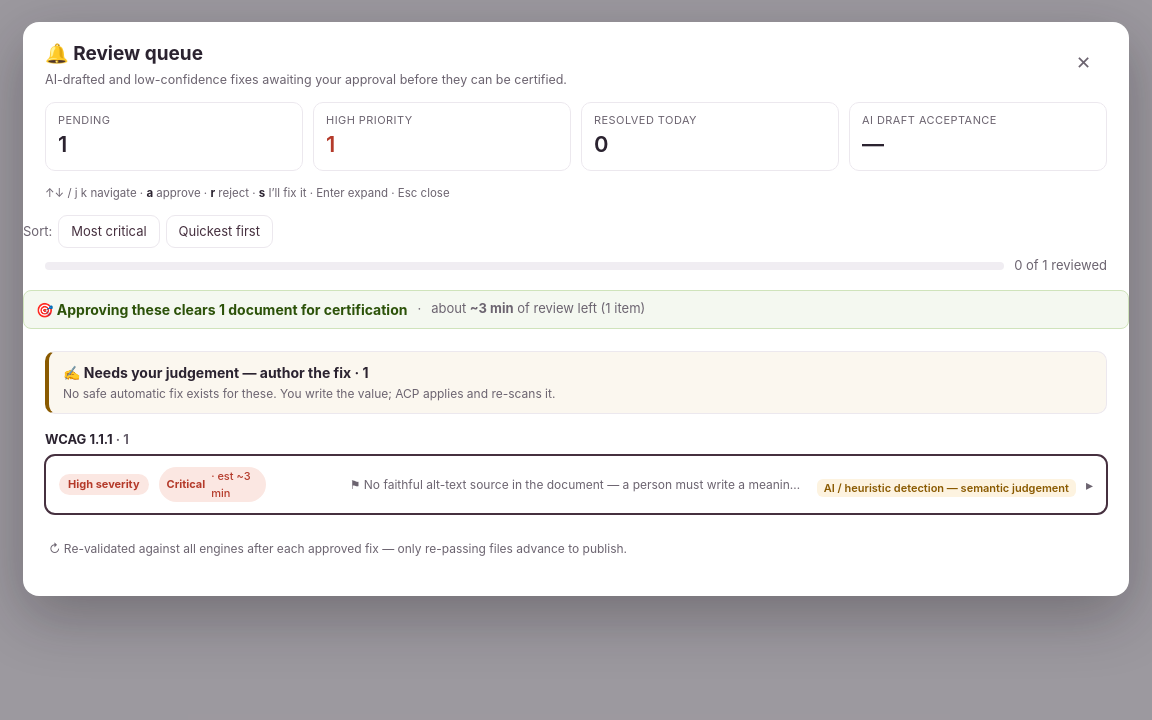
Test: ReviewCenter — approval error display › shows an error banner when a bulk approval fails
Step 1. Click the button that starts with "High" → (576, 485), box [46,456,1106,513]
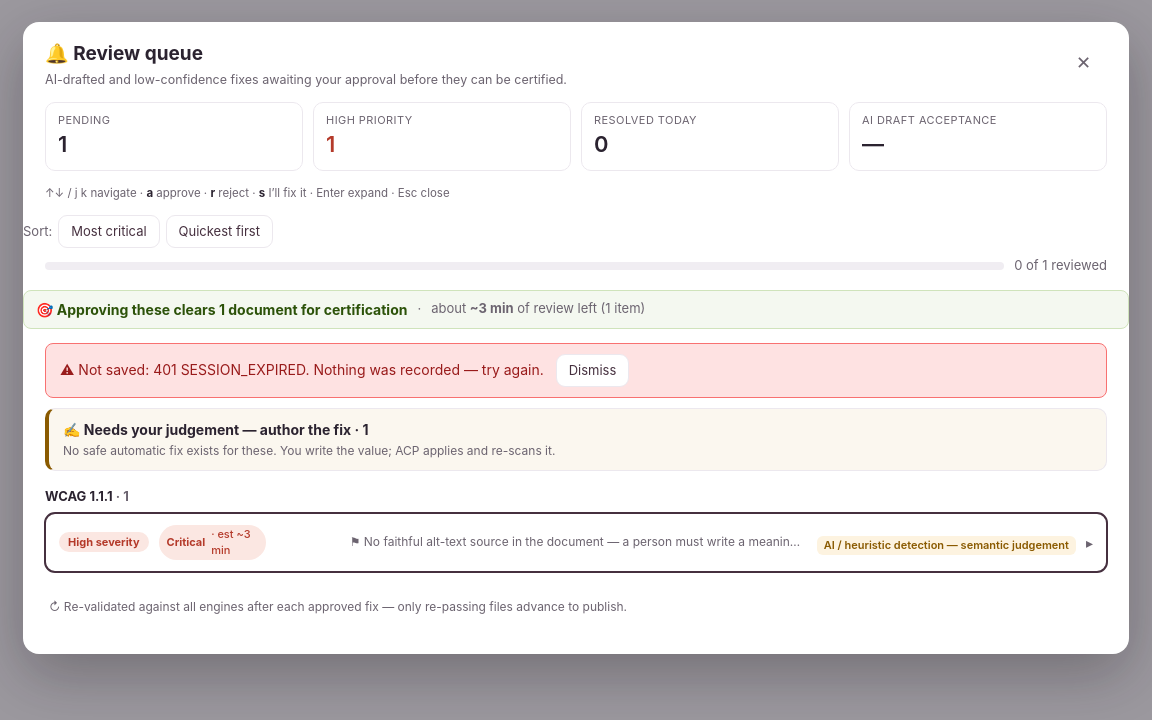
Expected: the message "⚠ Not saved: 401 SESSION_EXPIRED. Nothing was recorded — try again. Dismiss" is shown, [45,343,1107,398]
